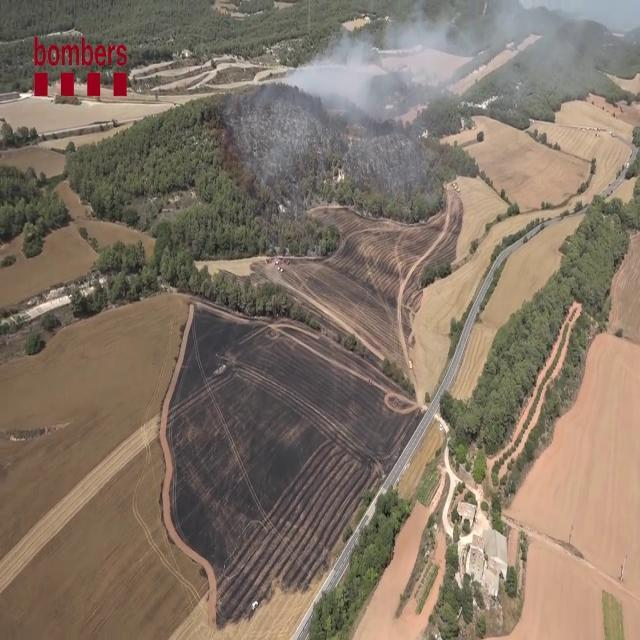Smoke: (305, 1, 599, 135)
